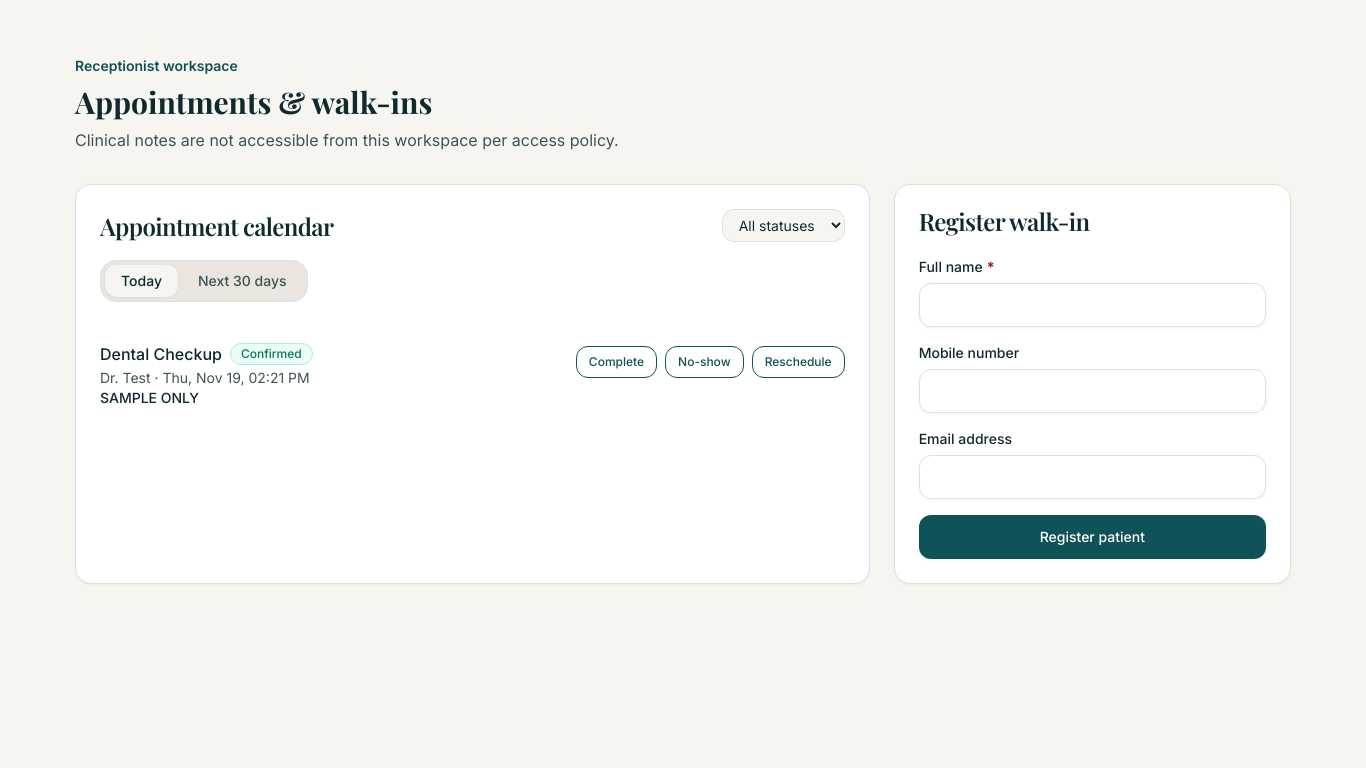
Scenario: ReceptionistPage › reschedule button opens dialog with appointment info
What coordinates should you click on to do the following:
click the button "Reschedule"
I would click on:
 (798, 362)
Its box is [752, 346, 845, 378].
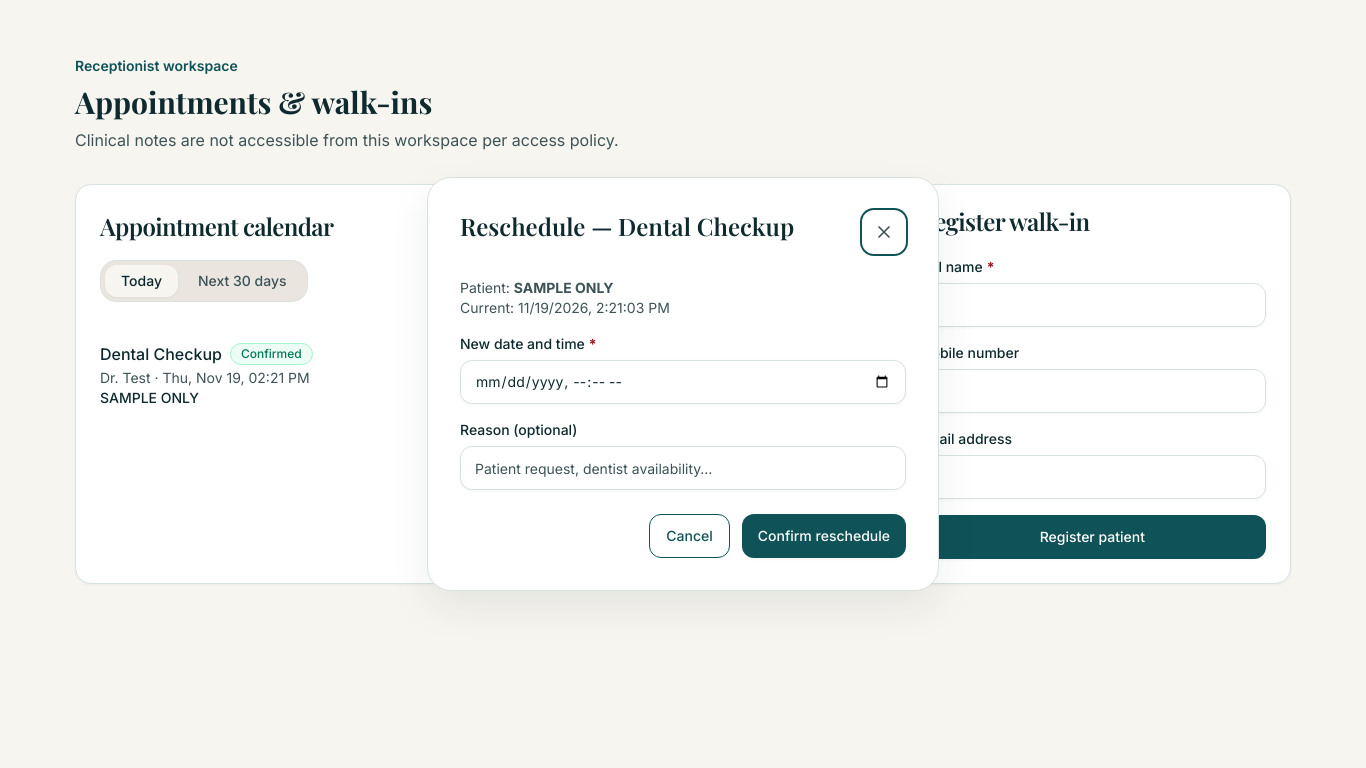
Expected: the text "Dental Checkup" is shown, [100, 342, 222, 366]
Expected: the dialog is shown, [427, 177, 939, 591]
